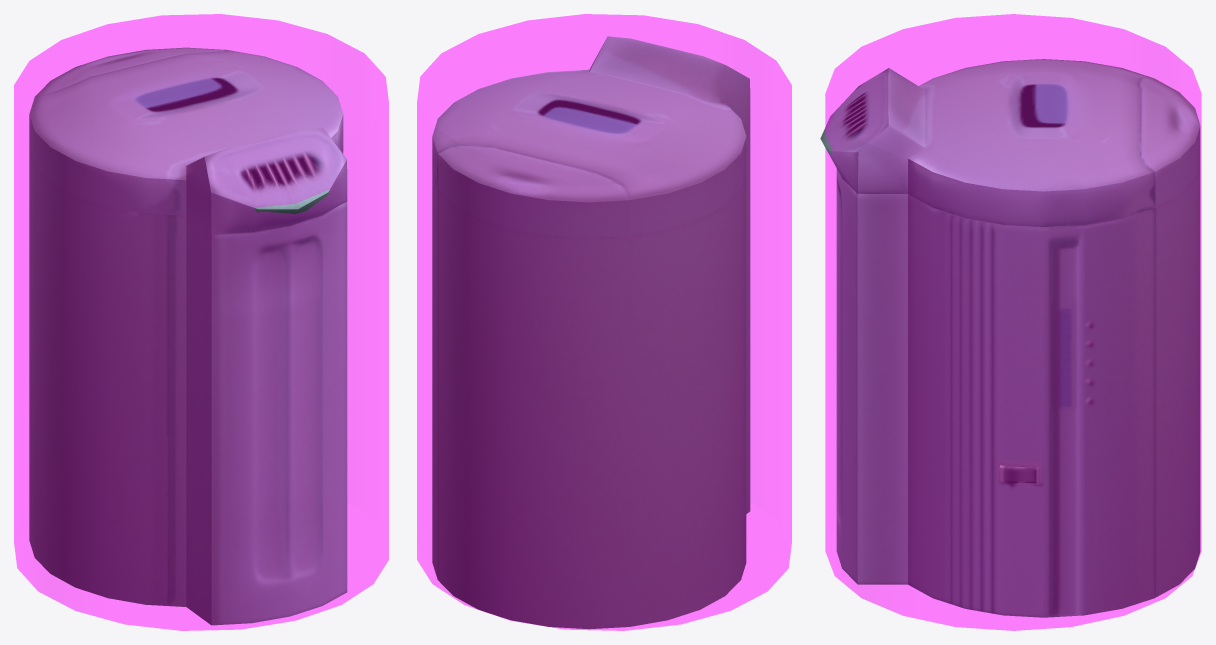
File: humidifier.fbx
The picture shows the model from 3 angles, left to right: view 1: azimuth 30°, elevation 25°; view 2: azimuth 150°, elevation 25°; view 3: azimuth 270°, elevation 25°; orthographic projection.
Visible parts, largest first — view 1: humidifier_boundingbox, humidifier; view 2: humidifier_boundingbox, humidifier; view 3: humidifier_boundingbox, humidifier.
Part boxes in pixels (x1,y1,x2,y2): humidifier_boundingbox: (14, 14, 388, 630); humidifier: (29, 47, 347, 625); humidifier_boundingbox: (417, 14, 791, 630); humidifier: (432, 36, 750, 629); humidifier_boundingbox: (825, 14, 1201, 630); humidifier: (820, 59, 1200, 617).
Bounding box in the file's own units: 0.3 × 0.403 × 0.3041.
2 materials, 1 textured.
